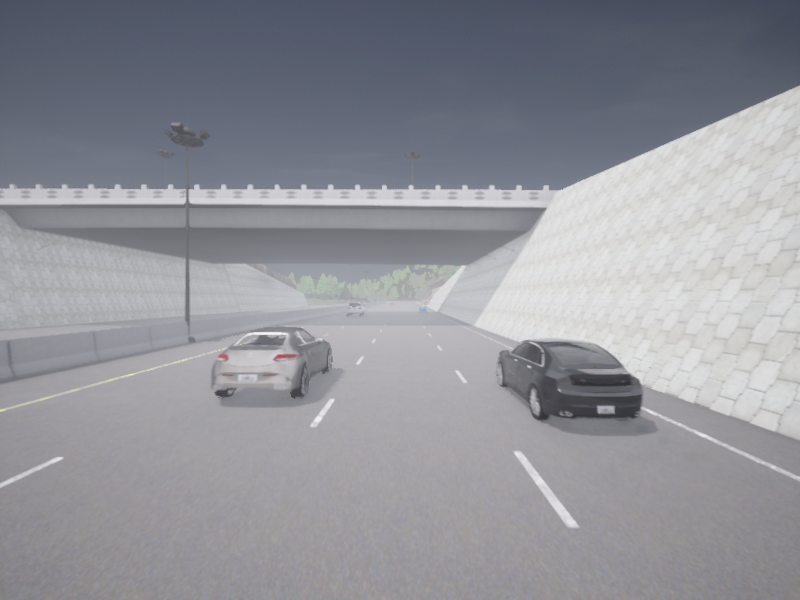vehicle: (497, 338, 642, 420), (211, 327, 331, 397), (347, 302, 364, 315), (419, 305, 426, 312), (390, 302, 395, 306)
